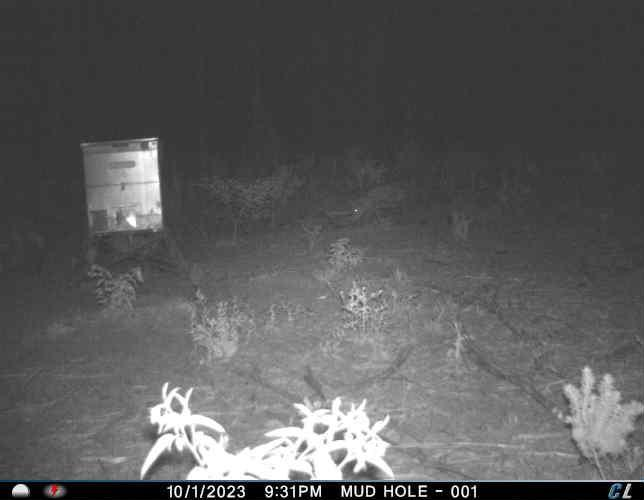Hog: (348, 182, 409, 226)
